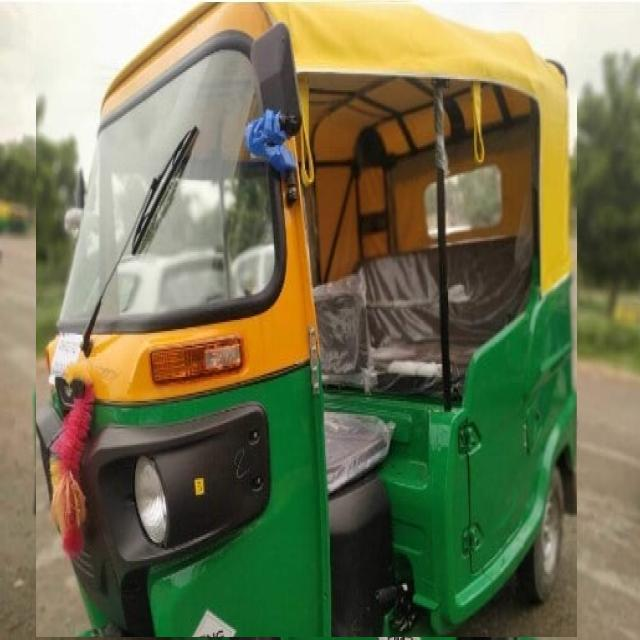autorickshaw: (36, 2, 576, 637)
